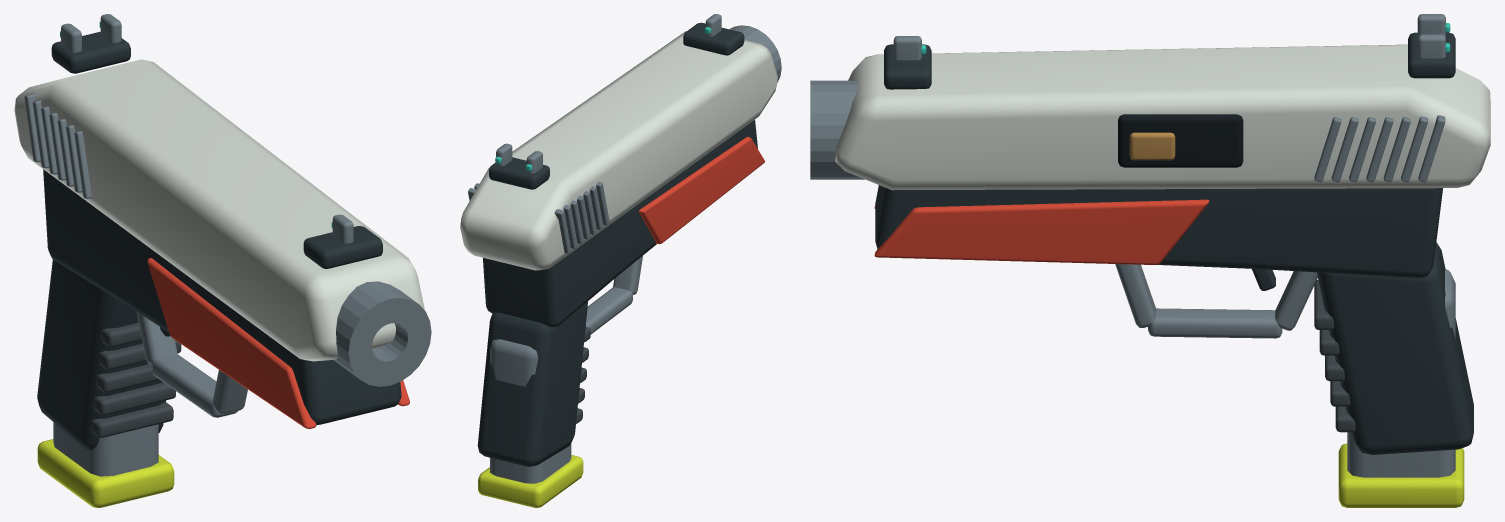
File: relay_pistol.glb
The picture shows the model from 3 angles, left to right: view 1: azimuth 30°, elevation 25°; view 2: azimuth 150°, elevation 25°; view 3: azimuth 270°, elevation 25°; orthographic projection. The views are drawn at different scales.
Visible parts, largest first — view 1: Receiver, Magazine; view 2: Receiver, Magazine; view 3: Receiver, Magazine.
Boxes of the visible parts, left/top/right/bottom form: Receiver: left=14, top=14, right=431, bottom=449; Magazine: left=37, top=422, right=174, bottom=507; Receiver: left=460, top=14, right=781, bottom=466; Magazine: left=478, top=339, right=583, bottom=507; Receiver: left=810, top=14, right=1490, bottom=454; Magazine: left=1338, top=269, right=1464, bottom=507.
Bounding box in the file's own units: 0.071 × 0.237 × 0.3142.
